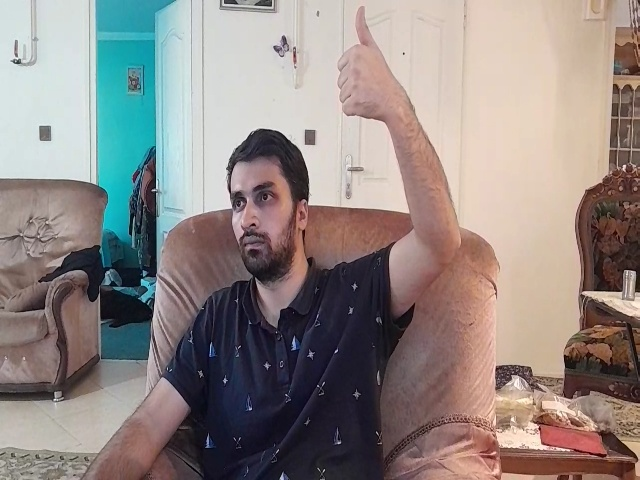ThumbsUp: (335, 5, 399, 127)
